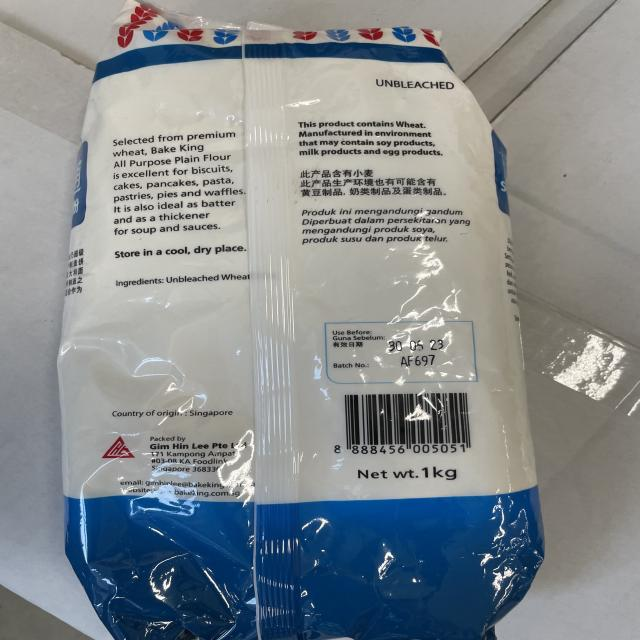object_name: (90, 25, 514, 632)
